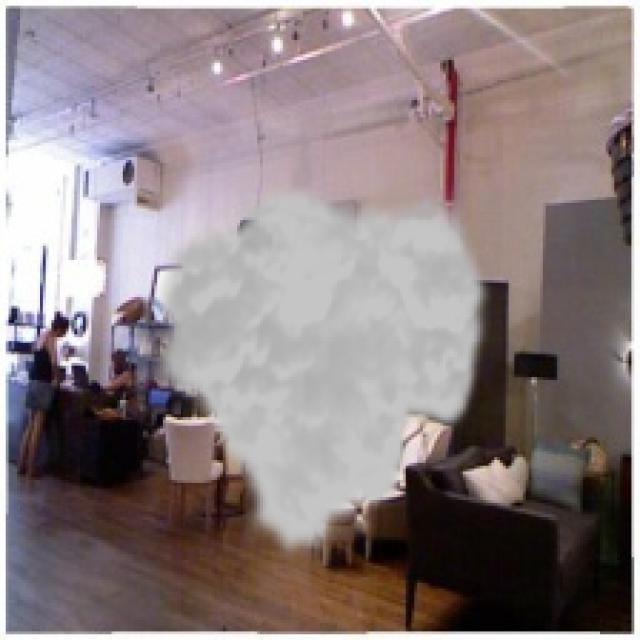Smoke: (146, 183, 494, 563)
